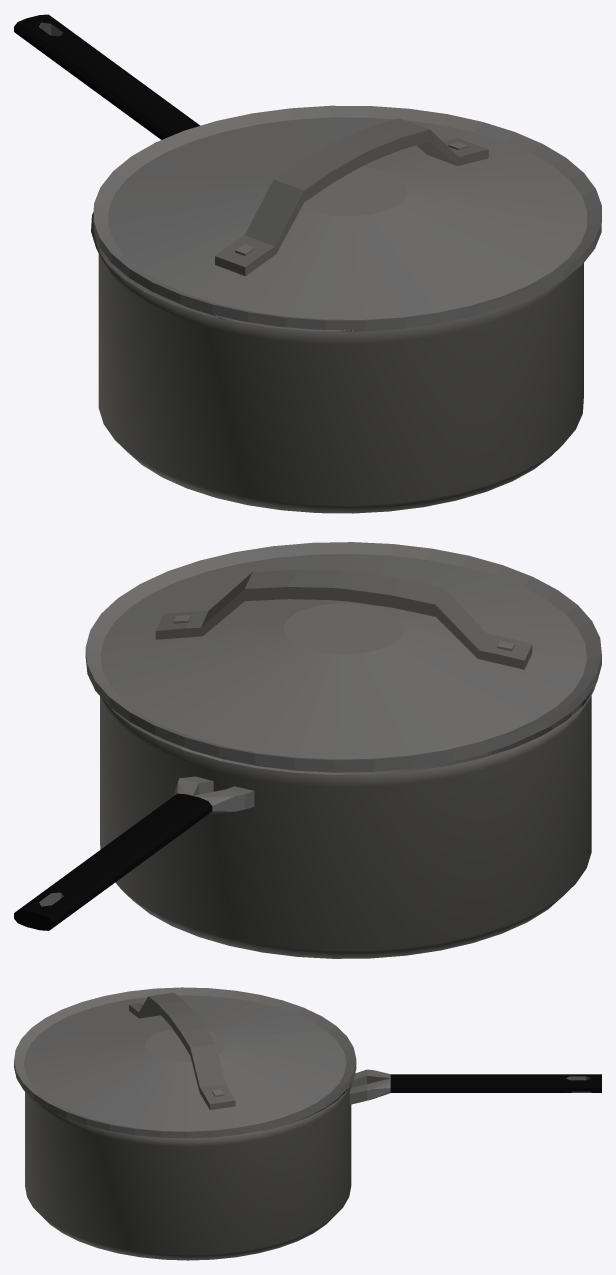
Rendered from Large_Pot_And_Lid.fbx.
3 renders of one model, top to bottom at view 1: azimuth 30°, elevation 25°; view 2: azimuth 150°, elevation 25°; view 3: azimuth 270°, elevation 25°, orthographic. The views are drawn at different scales.
Parts seen in each view (by area): view 1: Sphere.001; view 2: Sphere.001; view 3: Sphere.001.
Boxes of the visible parts, <box> form: Sphere.001: <box>14,14,601,513</box>; Sphere.001: <box>14,542,601,958</box>; Sphere.001: <box>14,987,601,1260</box>.
Size of the model in its own units: 25.49 by 14.98 by 43.74.
